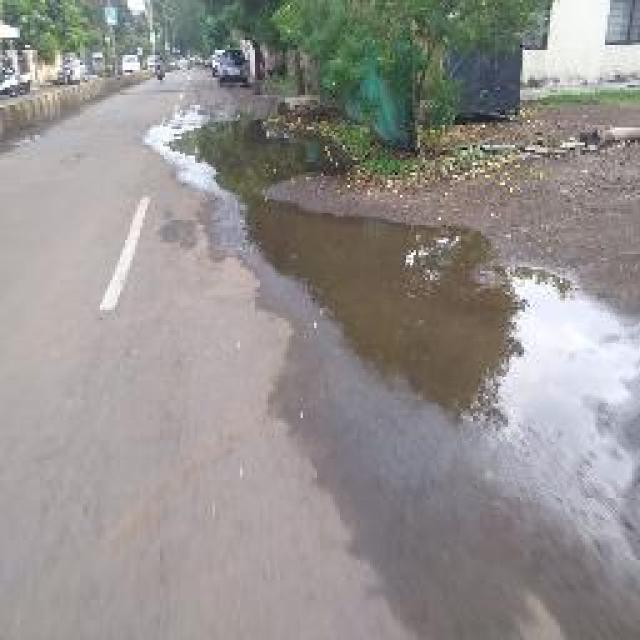puddle: (251, 201, 640, 497), (164, 116, 337, 192)
